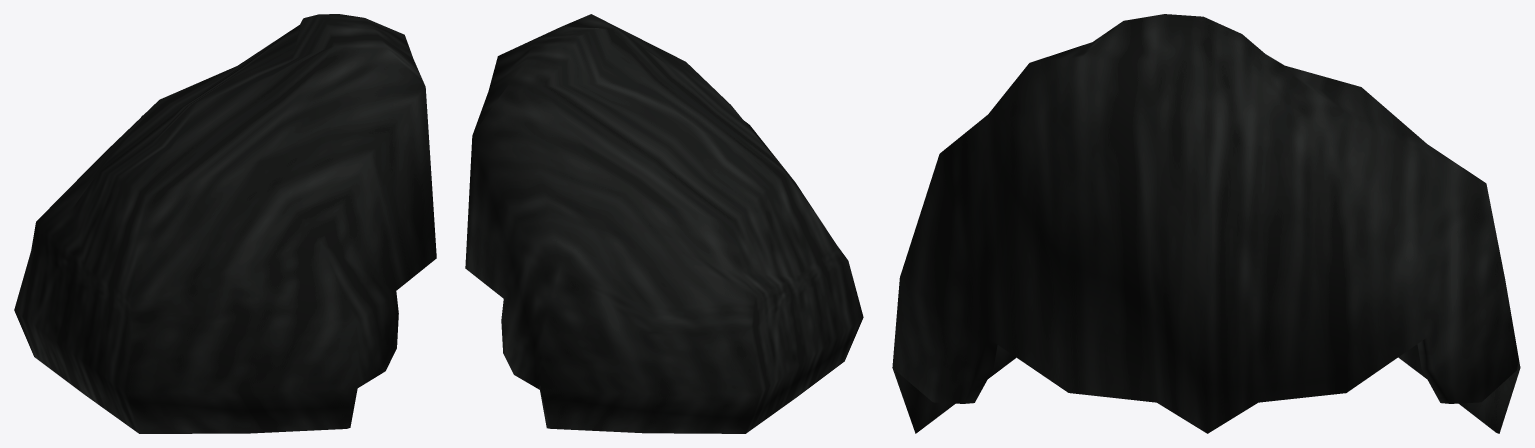
File: Pompadour.glb
3 renders of one model, left to right at view 1: azimuth 30°, elevation 25°; view 2: azimuth 150°, elevation 25°; view 3: azimuth 270°, elevation 25°, orthographic. The views are drawn at different scales.
Parts seen in each view (by area): view 1: Pompadour; view 2: Pompadour; view 3: Pompadour.
Part boxes in pixels (x1=…): Pompadour: x1=14, y1=14, x2=436, y2=433; Pompadour: x1=465, y1=14, x2=863, y2=433; Pompadour: x1=892, y1=14, x2=1520, y2=433.
Bounding box in the file's own units: 2.22 × 1.94 × 2.35.
1 material, 1 textured.
